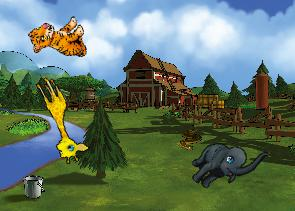elephant: (183, 119, 270, 208)
giraffe: (24, 73, 92, 167)
tiger: (26, 10, 92, 71)
